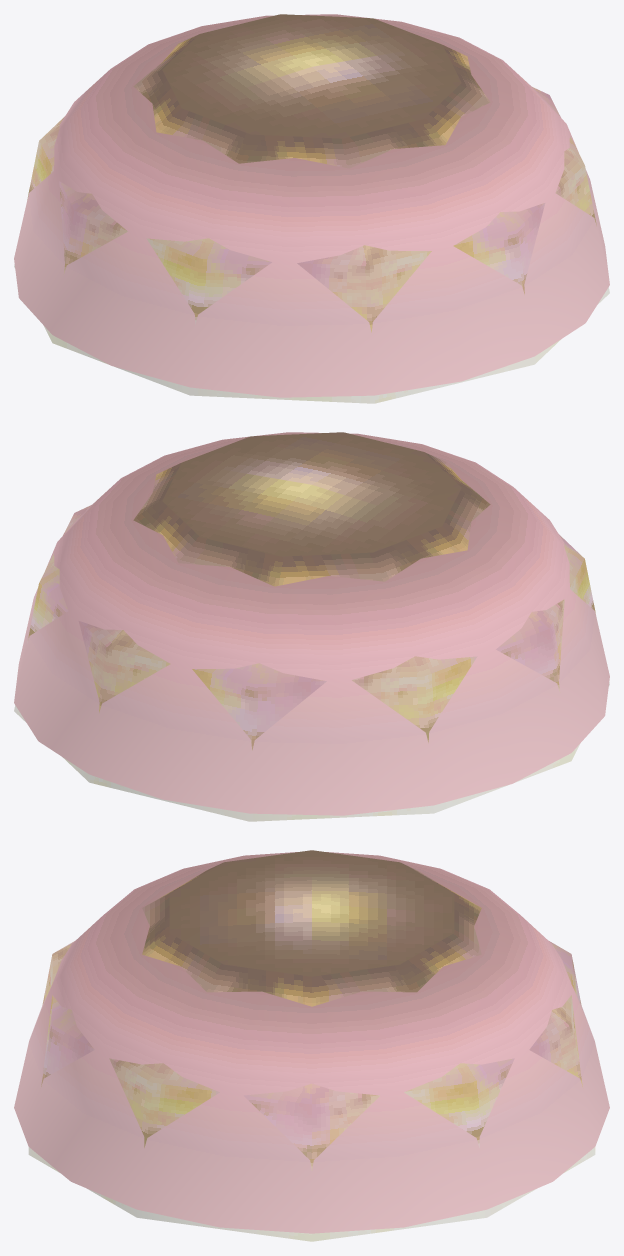
File: stage-impe-sky.glb
3 renders of one model, top to bottom at view 1: azimuth 30°, elevation 25°; view 2: azimuth 150°, elevation 25°; view 3: azimuth 270°, elevation 25°, orthographic.
Parts seen in each view (by area): view 1: sky; view 2: sky; view 3: sky.
Boxes of the visible parts, x1=… form: sky: x1=14, y1=14, x2=609, y2=403; sky: x1=14, y1=432, x2=609, y2=821; sky: x1=14, y1=850, x2=609, y2=1241.
Size of the model in its own units: 3660 by 1436 by 3660.
Materials: 4 (4 with a texture image).
